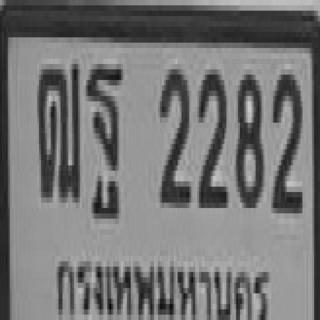A16: (84, 59, 121, 197)
A18: (35, 59, 78, 197)
N02: (269, 69, 301, 208), (157, 64, 188, 203), (196, 64, 225, 203)
N08: (234, 69, 261, 203)
P04: (51, 242, 272, 320)
